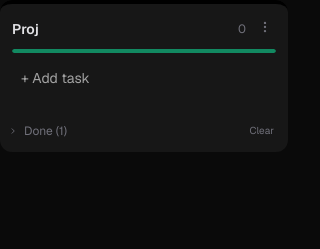
it: Column › toggles the Done section
The image size is (320, 249).
Click the button "Done (1)" at point(126, 130), box [8,122,244,138]
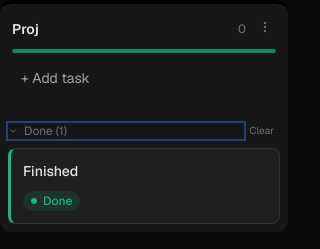
expect the text "Finished" is shown: met, box [23,162,78,180]
